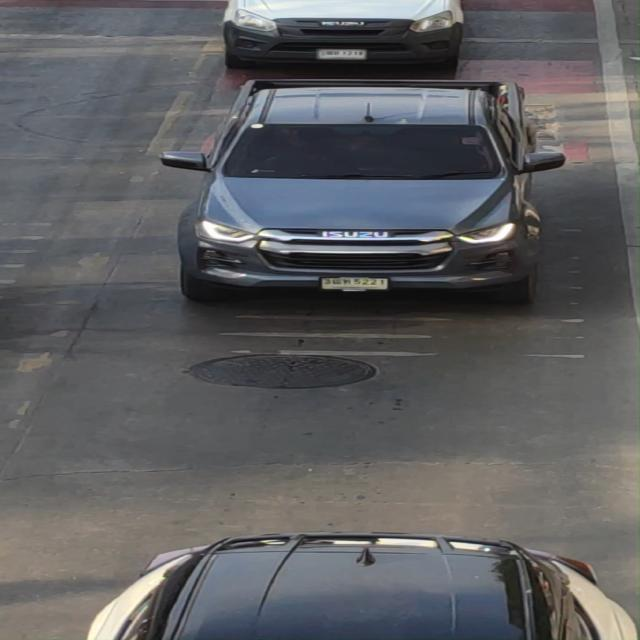car: (141, 66, 568, 306)
